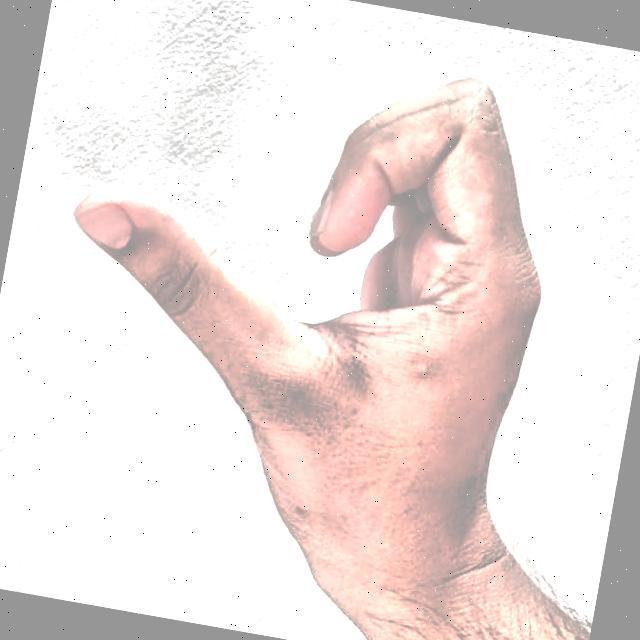Kha: (0, 0, 635, 640)
